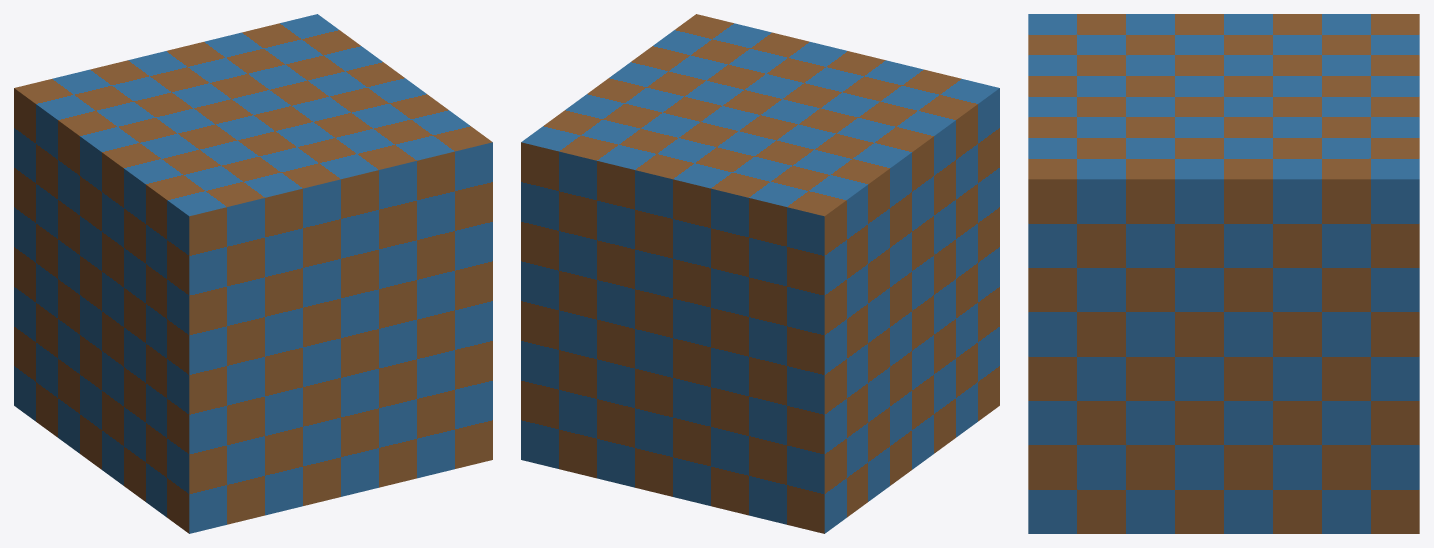
Rendered from content.glb.
The picture shows the model from 3 angles, left to right: view 1: azimuth 30°, elevation 25°; view 2: azimuth 150°, elevation 25°; view 3: azimuth 270°, elevation 25°; orthographic projection. The views are drawn at different scales.
Parts seen in each view (by area): view 1: Box; view 2: Box; view 3: Box.
Part boxes in pixels (left/top/right/bottom): Box: left=14, top=14, right=492, bottom=533; Box: left=521, top=14, right=999, bottom=533; Box: left=1028, top=14, right=1419, bottom=533.
Size of the model in its own units: 1 by 1 by 1.
1 material, 1 textured.
